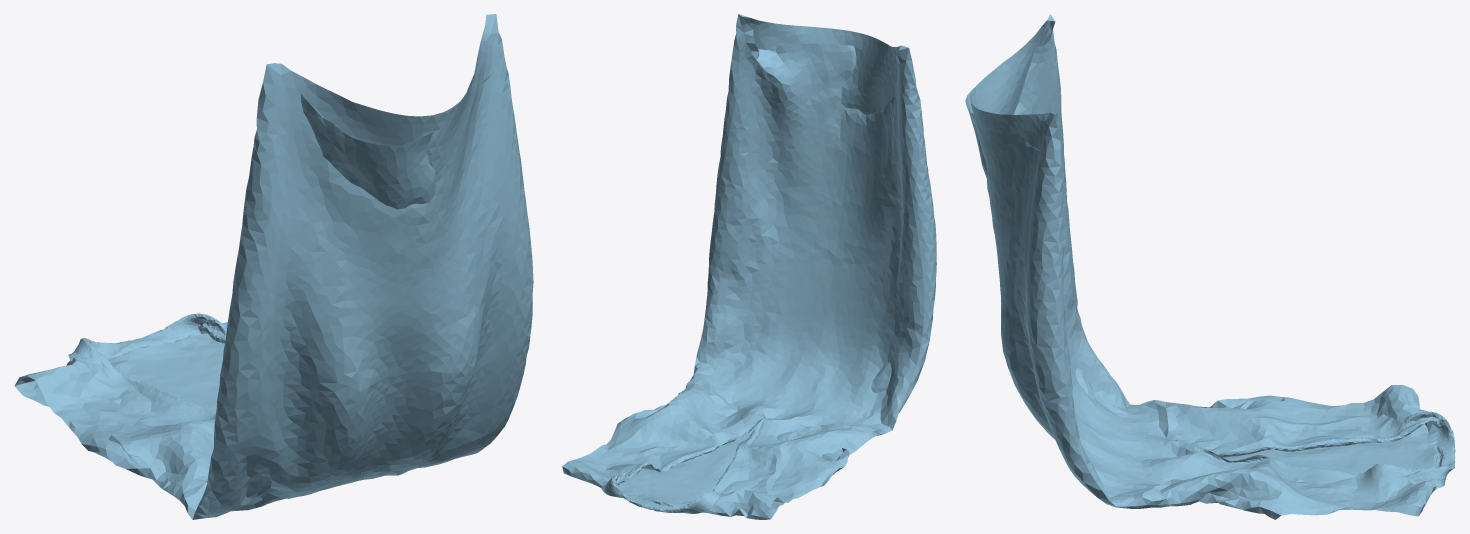
File: frame_10.glb
The picture shows the model from 3 angles, left to right: view 1: azimuth 30°, elevation 25°; view 2: azimuth 150°, elevation 25°; view 3: azimuth 270°, elevation 25°; orthographic projection. The views are drawn at different scales.
Visible parts, largest first — view 1: frame_10.obj; view 2: frame_10.obj; view 3: frame_10.obj.
Boxes of the visible parts, left/top/right/bottom form: frame_10.obj: left=14, top=14, right=533, bottom=519; frame_10.obj: left=562, top=14, right=936, bottom=519; frame_10.obj: left=965, top=14, right=1455, bottom=519.
Size of the model in its own units: 0.6297 by 0.9571 by 1.05.
